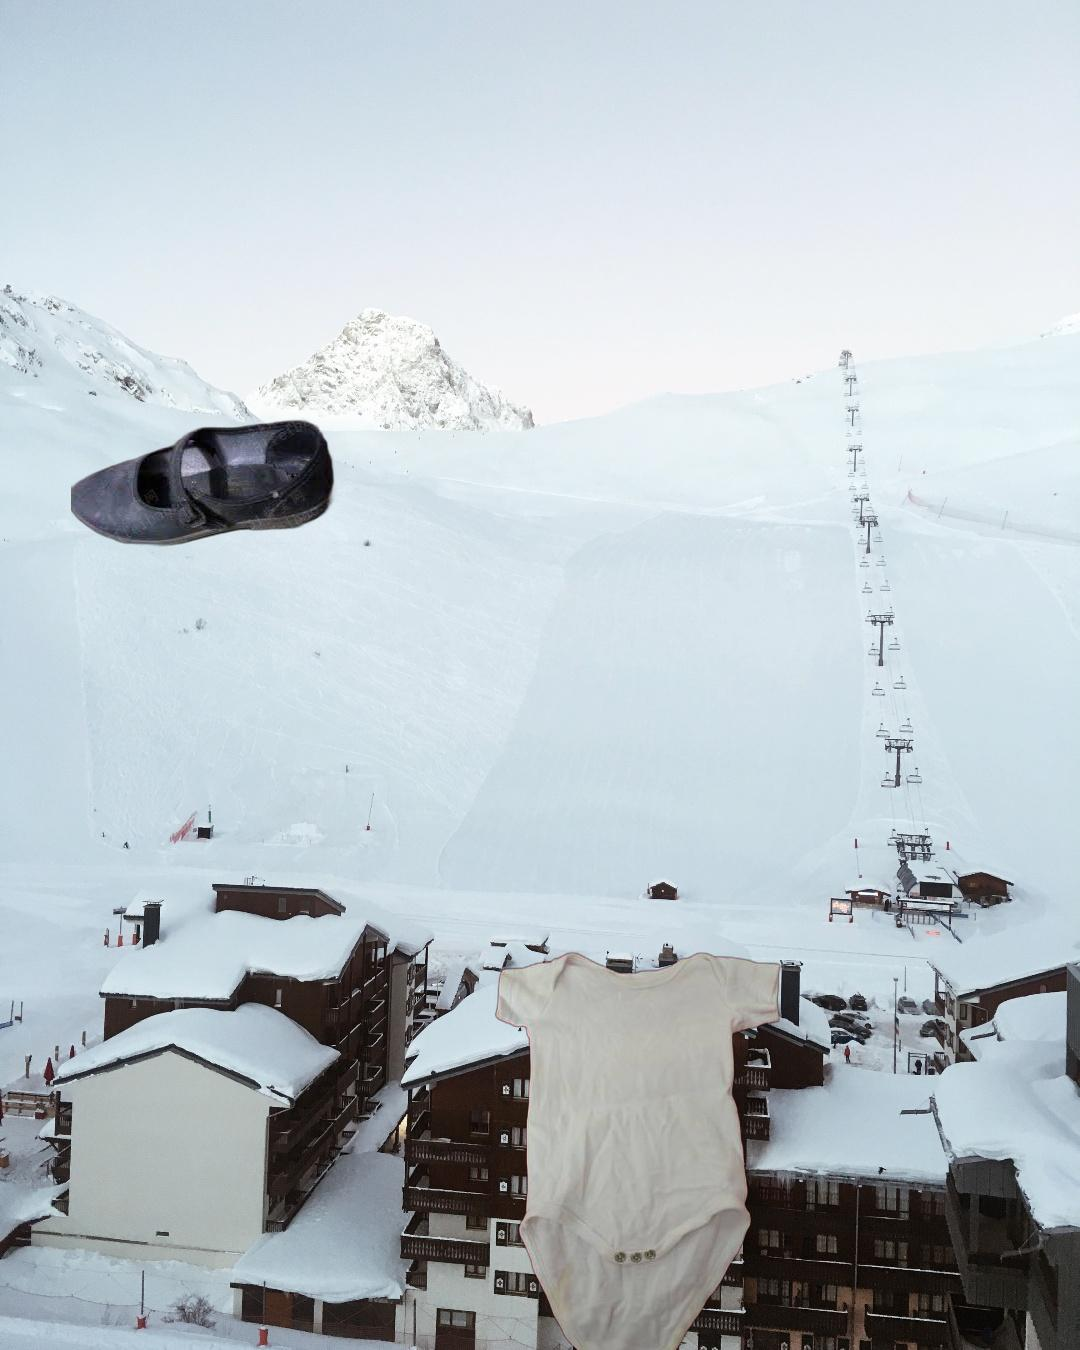clothes: (492, 948, 784, 1350)
shoes: (71, 415, 338, 549)
